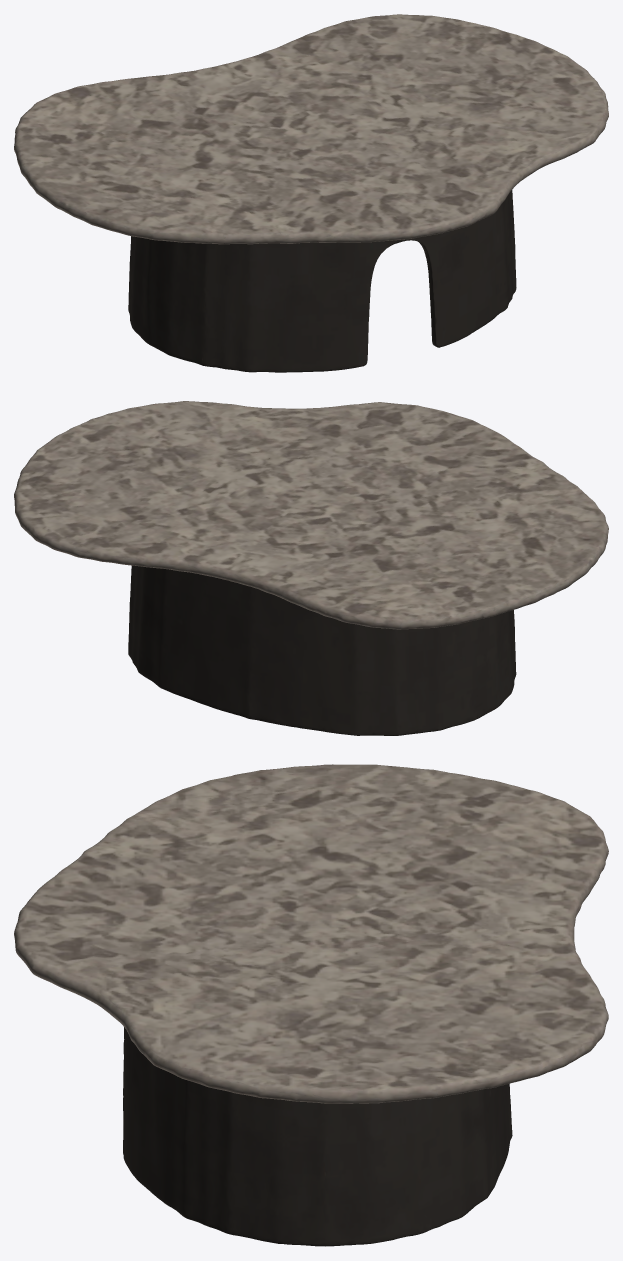
File: organically_shaped_coffee_table_hxfkn3.glb
3 views of the same model, one above another, from view 1: azimuth 30°, elevation 25°; view 2: azimuth 150°, elevation 25°; view 3: azimuth 270°, elevation 25° (orthographic). The views are drawn at different scales.
Parts seen in each view (by area): view 1: world; view 2: world; view 3: world.
Part boxes in pixels (bbox=[...]): world: bbox=[14, 14, 608, 372]; world: bbox=[14, 401, 608, 735]; world: bbox=[14, 764, 608, 1246].
Size of the model in its own units: 1 by 0.2988 by 0.762.
Materials: 1 (1 with a texture image).
